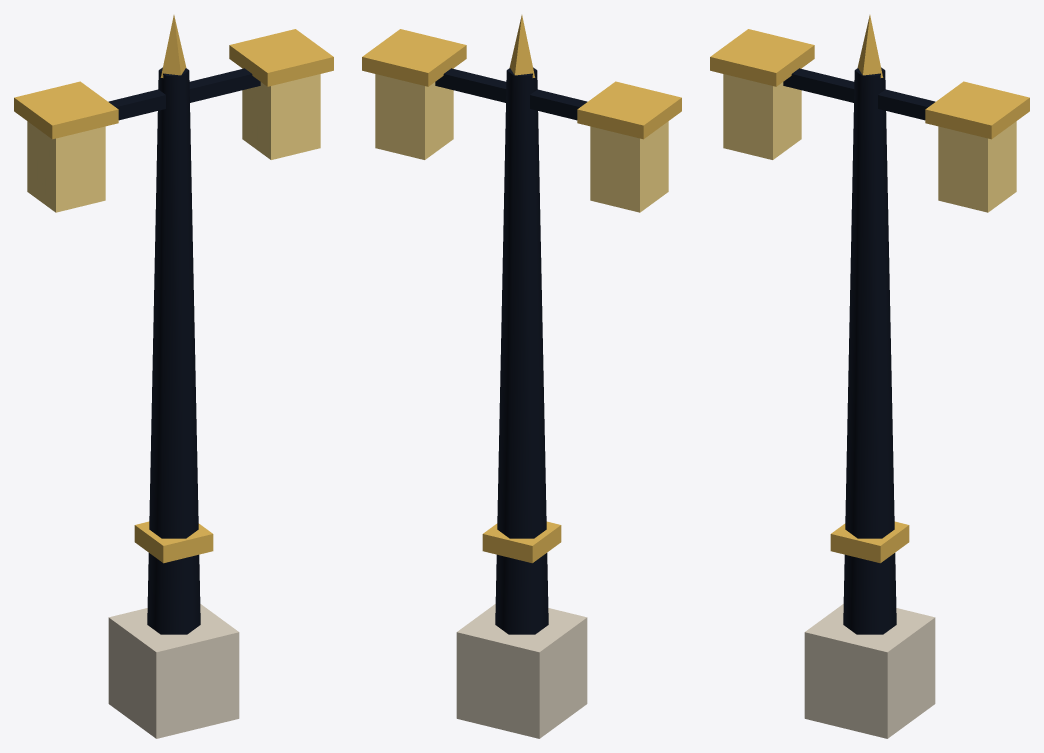
Rendered from prop_lamppost.glb.
3 renders of one model, left to right at view 1: azimuth 30°, elevation 25°; view 2: azimuth 150°, elevation 25°; view 3: azimuth 330°, elevation 25°, orthographic.
Visible parts, largest first — view 1: prop_lamppost; view 2: prop_lamppost; view 3: prop_lamppost.
Boxes of the visible parts, box(x1,y1,x2,y2) form: prop_lamppost: box(14, 15, 333, 738); prop_lamppost: box(362, 15, 681, 738); prop_lamppost: box(710, 15, 1029, 738).
Size of the model in its own units: 1.7 by 4.03 by 0.5002.
1 material, 1 textured.
